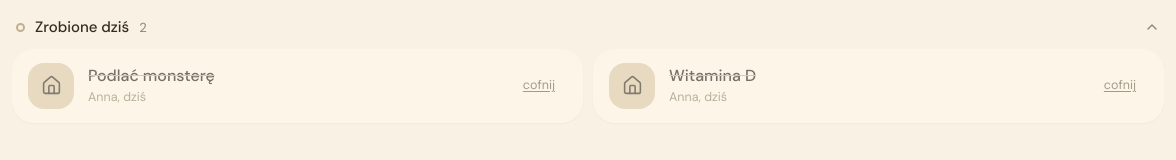
Test: DoneToday › collapses to one line, and says what is behind it
The width and height of the screenshot is (1176, 160).
Step 1. Click the button "Zrobione dziś 2" → (82, 27), box top-left (12, 16), bottom-right (1164, 38)
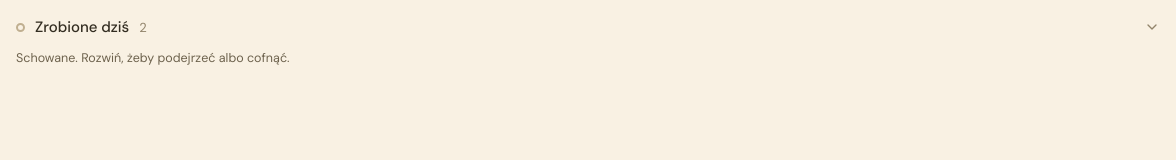
Check: the text "2" is shown, box top-left (139, 18), bottom-right (147, 37)
Check: the text "Schowane. Rozwiń, żeby podejrzeć albo cofnąć." is shown, box top-left (16, 50), bottom-right (290, 66)
Check: the button "Podlać monsterę" is gone
